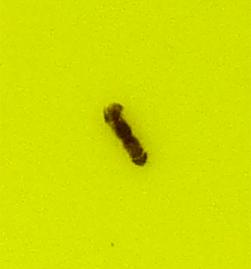Hemiptera: (100, 100, 151, 169)
